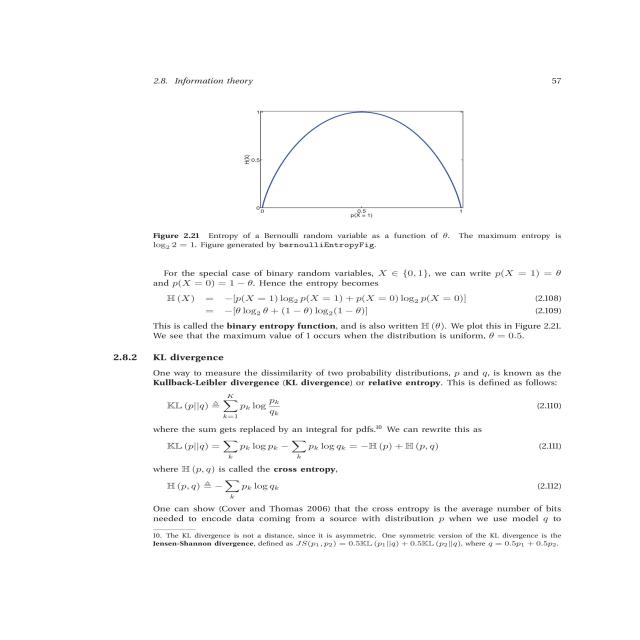diagram: (153, 71, 552, 228)
